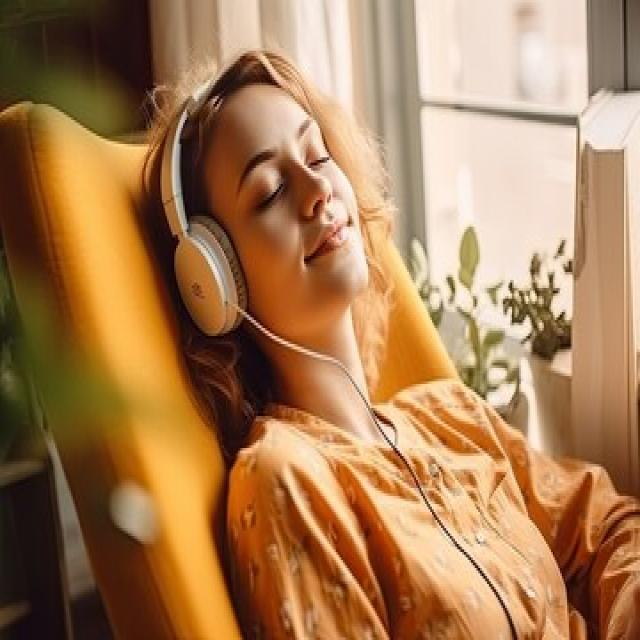Headphone: (162, 72, 249, 338)
